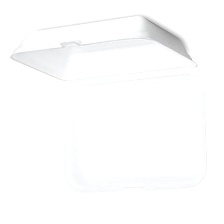foam_box: (6, 11, 214, 207)
